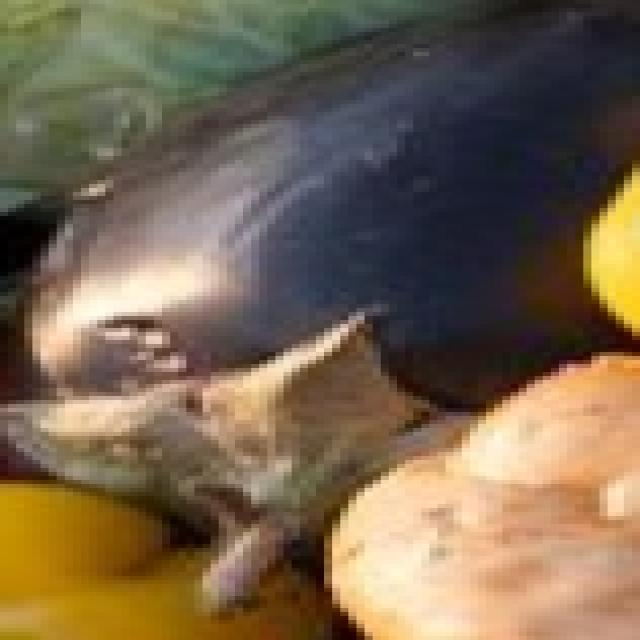food waste: (24, 0, 640, 616)
